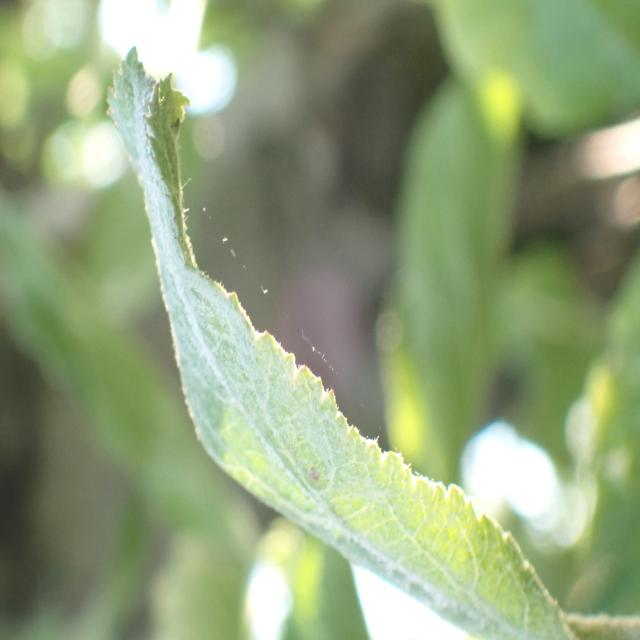Powdery_mildew: (82, 28, 578, 640)
